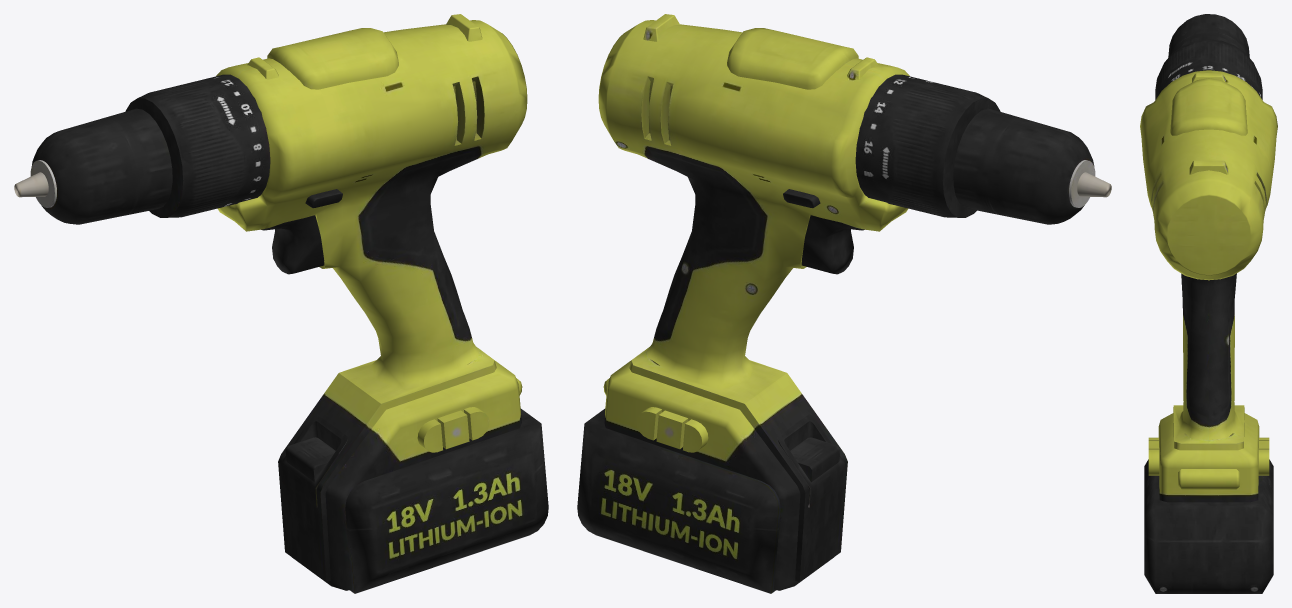
The model's file is drill.glb.
The picture shows the model from 3 angles, left to right: view 1: azimuth 30°, elevation 25°; view 2: azimuth 150°, elevation 25°; view 3: azimuth 270°, elevation 25°; orthographic projection. The views are drawn at different scales.
Parts seen in each view (by area): view 1: Drill_01; view 2: Drill_01; view 3: Drill_01.
Part boxes in pixels (box(x1,y1,x2,y2)): Drill_01: box(14, 14, 548, 593); Drill_01: box(577, 14, 1111, 593); Drill_01: box(1140, 14, 1277, 593).
Size of the model in its own units: 0.1829 by 0.1851 by 0.0524.
Materials: 1 (1 with a texture image).
